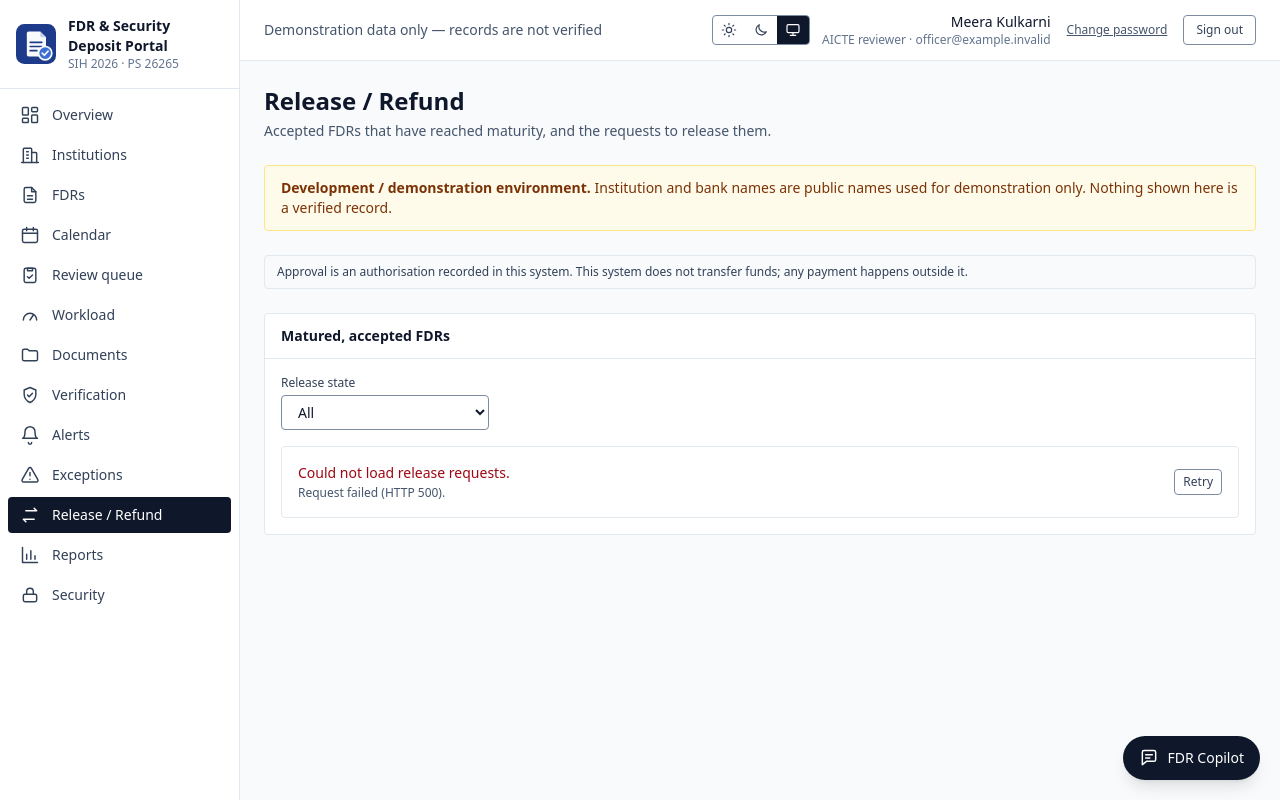
Test case: release / refund list › shows a failed load as an error, not as an empty list
Expected: the message shows "Could not load release requests", [281,446,1239,518]
What coordinates should you click on to do the following:
click the button "Retry"
I would click on:
 (1198, 482)
Its box is [1174,469,1222,495].
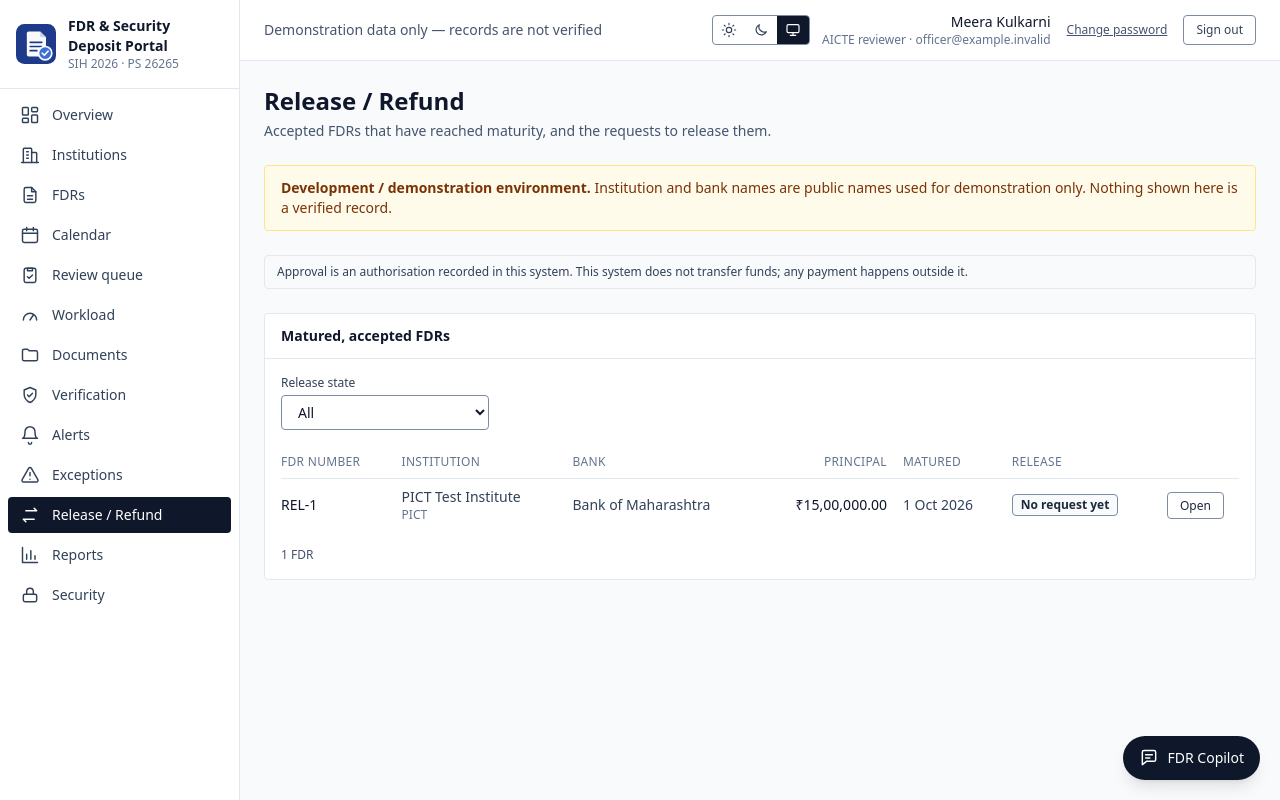
Expected: the column heading "REL-1" is shown, [281,479,402,531]
